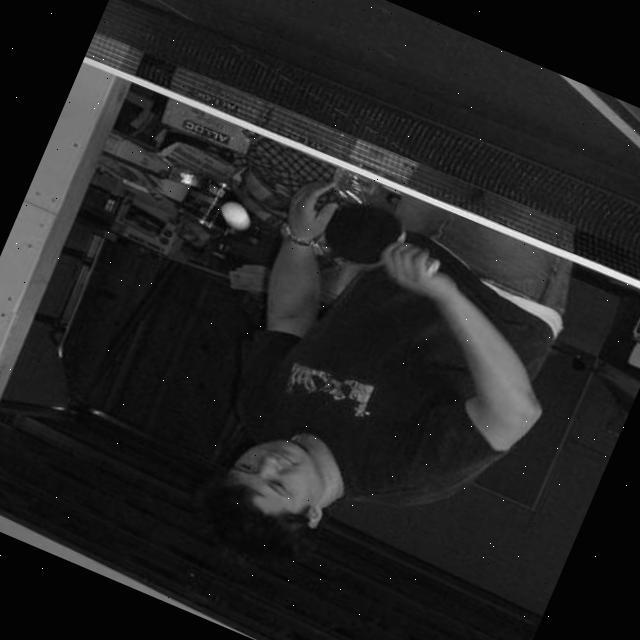ping-pong-ball: (214, 196, 256, 234)
